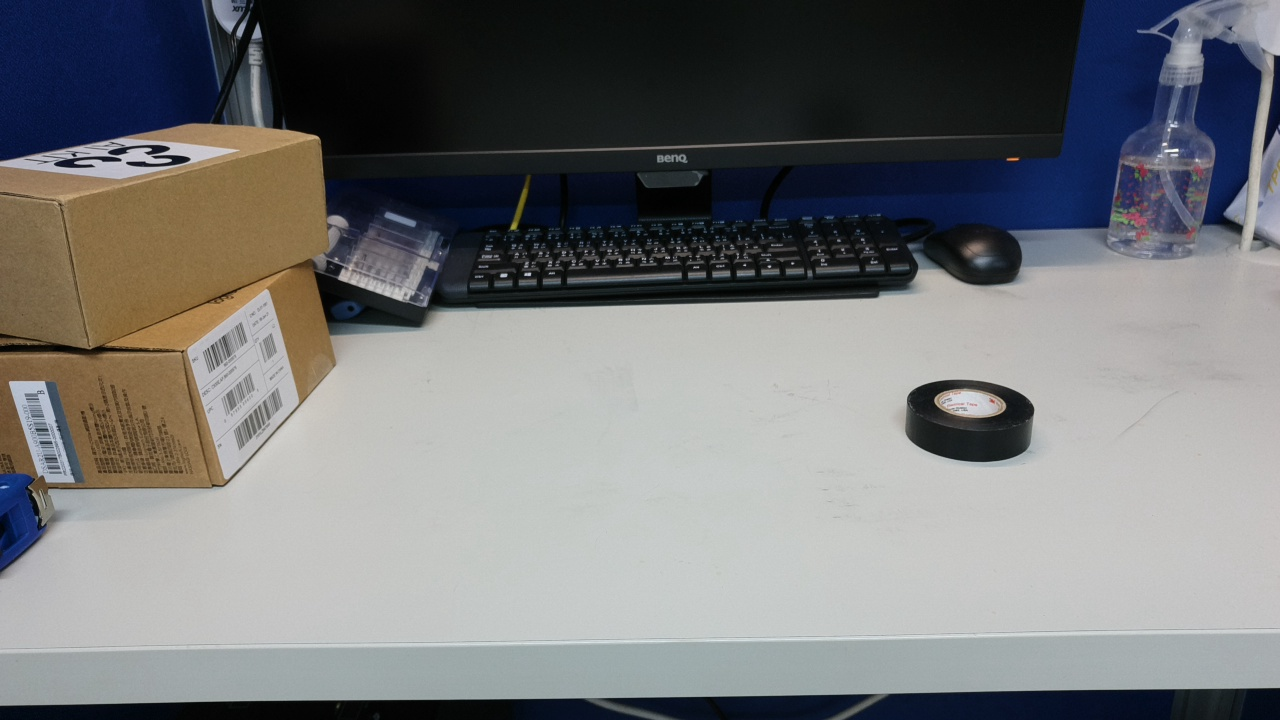columnar: (643, 217, 896, 637)
